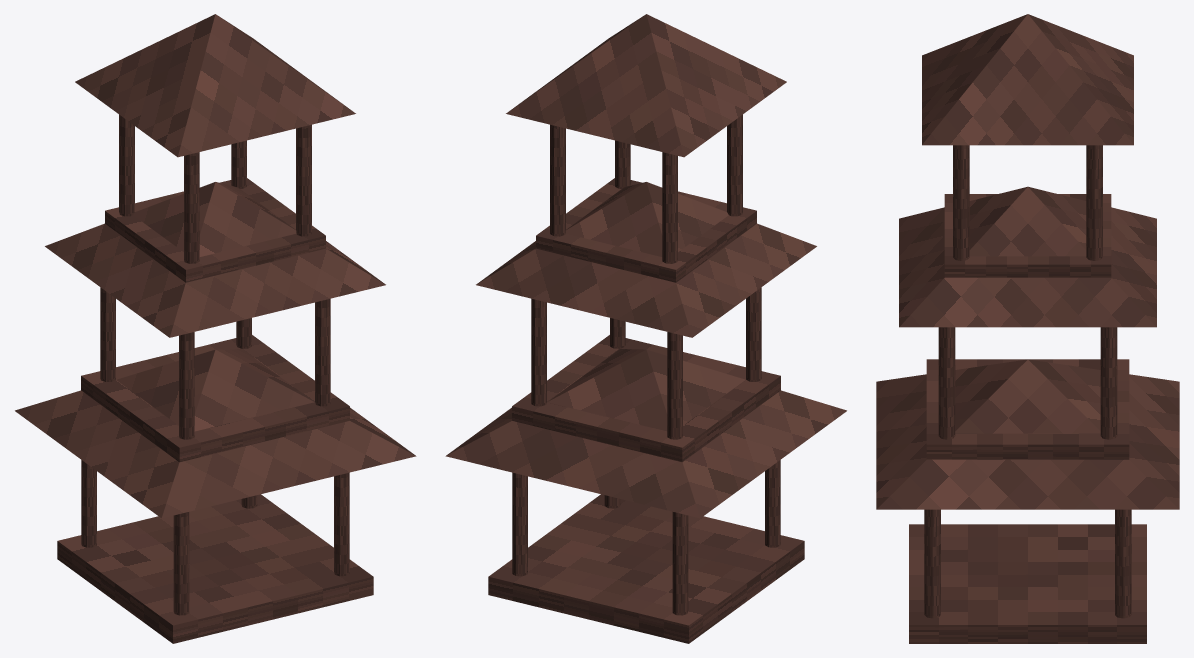
Rendered from pagoda_52.glb.
3 renders of one model, left to right at view 1: azimuth 30°, elevation 25°; view 2: azimuth 150°, elevation 25°; view 3: azimuth 270°, elevation 25°, orthographic. The views are drawn at different scales.
Visible parts, largest first — view 1: Roof, Floor, Roof.001, Roof.002, Floor.001, Floor.002, Column.010, Column.008, Column, Column.006, Column.004, Column.002 (+4 smaller); view 2: Roof, Floor, Roof.001, Roof.002, Floor.001, Floor.002, Column.011, Column.009, Column.001, Column.007, Column.005, Column.003 (+4 smaller); view 3: Roof, Roof.001, Floor, Roof.002, Floor.001, Floor.002, Column.006, Column.007, Column.010, Column.011, Column.002, Column.003.
Boxes of the visible parts, x1,y1,x2,y2 form: Roof: (15,349,416,518); Floor: (57,494,373,643); Roof.001: (45,182,385,337); Roof.002: (75,14,355,157); Floor.001: (81,335,349,462); Floor.002: (105,178,325,282); Column.010: (296,124,311,236); Column.008: (184,152,199,263); Column: (173,512,189,615); Column.006: (315,298,330,406); Column.004: (179,332,194,439); Column.002: (334,472,349,576); Roof: (445,349,846,518); Floor: (488,494,804,643); Roof.001: (476,182,816,337); Roof.002: (506,14,786,157); Floor.001: (512,335,780,462); Floor.002: (536,178,756,282); Column.011: (550,124,565,236); Column.009: (662,152,677,263); Column.001: (672,512,688,615); Column.007: (531,298,546,406); Column.005: (667,332,682,439); Column.003: (512,472,527,576); Roof: (876,359,1179,509); Roof.001: (899,186,1156,327); Floor: (909,524,1146,643); Roof.002: (922,14,1133,145); Floor.001: (926,359,1129,459); Floor.002: (944,194,1111,277); Column.006: (938,327,955,439); Column.007: (1100,327,1117,439); Column.010: (953,145,969,260); Column.011: (1086,145,1102,260); Column.002: (924,509,940,618); Column.003: (1115,509,1131,618).
Size of the model in its own units: 4.35 by 9.18 by 4.35.
1 material, 1 textured.
